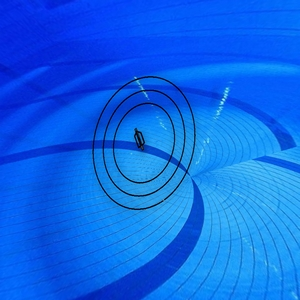circle: (89, 73, 199, 214)
submarine: (128, 125, 151, 163)
